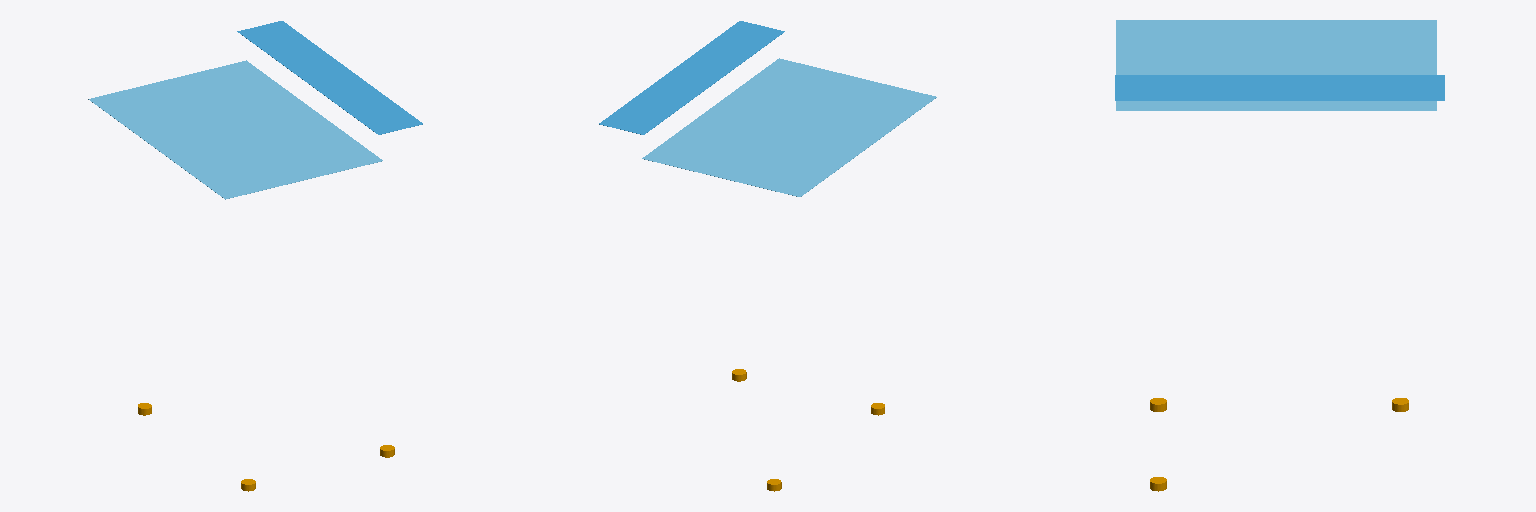
URDF robot description (partnet_3ac64751-e075-488d-9938-9123dc88b2b6-0):
<?xml version="1.0" ?>
<robot name="partnet_3ac64751-e075-488d-9938-9123dc88b2b6-0">
	<link name="base"/>

	<joint name="faucet_transform" type="fixed">
	    <parent link="basin"/>
	    <child link="faucet_platform"/>
	    <origin rpy="0 0 0" xyz="-0.014 -0.1 -0.3"/>
  	</joint>

	<link name="faucet_platform">
		<visual name="platform">
			<geometry>
		    	<box size="1.3 .001 .24"/>
		  	</geometry>
		</visual>
	</link>

	<joint name="bottom_transform" type="fixed">
		<parent link="basin"/>
		<child link="basin_bottom"/>
		<origin rpy="0 0 0" xyz="0 -0.24 0.21"/>
	</joint>
	<link name="basin_bottom">
		<origin rpy="0 0 0" xyz="0 -0.4 0.21"/>
		<visual name="water">
			<geometry>
      	<box size="1.26 .001 .84"/>
      </geometry>
			<material name="Blue">
				<color rgba="0.537254902 0.811764706 0.941176471 1.0"/>
			</material>
		</visual>
		<collision name="water_col">
			<geometry>
	        	<box size="1.26 .001 .84"/>
	        </geometry>
		</collision>
	</link>

	<link name="link_collision_1">
		<visual>
			<origin xyz="0 0 0"/>
			<geometry>
				<mesh filename="textured_objs/basin-minus-y.obj"/>
			</geometry>
		</visual>
		<collision>
			<origin xyz="0 0 0"/>
			<geometry>
				<mesh filename="textured_objs/basin-minus-y.obj"/>
			</geometry>
		</collision>
	</link>
	<joint name="joint_collision_1" type="fixed">
		<origin rpy="0 0 0" xyz="0 0 0"/>
		<child link="link_collision_1"/>
		<parent link="basin"/>
	</joint>

	<link name="link_collision_2">
		<visual>
			<origin xyz="0 0 0"/>
			<geometry>
				<mesh filename="textured_objs/basin-minus-x.obj"/>
			</geometry>
		</visual>
		<collision>
			<origin xyz="0 0 0"/>
			<geometry>
				<mesh filename="textured_objs/basin-minus-x.obj"/>
			</geometry>
		</collision>
	</link>
	<joint name="joint_collision_2" type="fixed">
		<origin rpy="0 0 0" xyz="0 0 0"/>
		<child link="link_collision_2"/>
		<parent link="basin"/>
	</joint>

	<link name="link_collision_3">
		<visual>
			<origin xyz="0 0 0"/>
			<geometry>
				<mesh filename="textured_objs/basin-plus-y.obj"/>
			</geometry>
		</visual>
		<collision>
			<origin xyz="0 0 0"/>
			<geometry>
				<mesh filename="textured_objs/basin-plus-y.obj"/>
			</geometry>
		</collision>
	</link>
	<joint name="joint_collision_3" type="fixed">
		<origin rpy="0 0 0" xyz="0 0 0"/>
		<child link="link_collision_3"/>
		<parent link="basin"/>
	</joint>

	<link name="link_collision_4">
		<visual>
			<origin xyz="0 0 0"/>
			<geometry>
				<mesh filename="textured_objs/basin-plus-x.obj"/>
			</geometry>
		</visual>
		<collision>
			<origin xyz="0 0 0"/>
			<geometry>
				<mesh filename="textured_objs/basin-plus-x.obj"/>
			</geometry>
		</collision>
	</link>
	<joint name="joint_collision_4" type="fixed">
		<origin rpy="0 0 0" xyz="0 0 0"/>
		<child link="link_collision_4"/>
		<parent link="basin"/>
	</joint>

	<link name="basin">
		<visual name="base_body-2">
			<origin xyz="0 0 0"/>
			<geometry>
				<mesh filename="textured_objs/original-64.obj"/>
			</geometry>
		</visual>
		<visual name="base_body-2--1">
			<origin xyz="0 0 0"/>
			<geometry>
				<mesh filename="textured_objs/original-65.obj"/>
			</geometry>
		</visual>
		<visual name="base_body-2--2">
			<origin xyz="0 0 0"/>
			<geometry>
				<mesh filename="textured_objs/original-54.obj"/>
			</geometry>
		</visual>
		<!-- <visual name="base_body-2-3">
			<origin xyz="0 0 0"/>
			<geometry>
				<mesh filename="textured_objs/original-63.obj"/>
			</geometry>
		</visual> -->
		<visual name="base_body-2--4">
			<origin xyz="0 0 0"/>
			<geometry>
				<mesh filename="textured_objs/original-55.obj"/>
			</geometry>
		</visual>
		<visual name="base_body-2--5">
			<origin xyz="0 0 0"/>
			<geometry>
				<mesh filename="textured_objs/original-48.obj"/>
			</geometry>
		</visual>
		<visual name="base_body-2--7">
			<origin xyz="0 0 0"/>
			<geometry>
				<mesh filename="textured_objs/original-47.obj"/>
			</geometry>
		</visual>
		<!-- <visual name="base_body-2-8">
			<origin xyz="0 0 0"/>
			<geometry>
				<mesh filename="textured_objs/original-53.obj"/>
			</geometry>
		</visual>
		<visual name="base_body-2-9">
			<origin xyz="0 0 0"/>
			<geometry>
				<mesh filename="textured_objs/original-46.obj"/>
			</geometry>
		</visual> -->

		<visual name="base_body-2-10">
			<origin xyz="0 0 0"/>
			<geometry>
				<mesh filename="textured_objs/original-57-new.obj"/>
			</geometry>
		</visual>

		<!-- <collision>
			<origin xyz="0 0 0"/>
			<geometry>
				<mesh filename="textured_objs/original-64.obj"/>
			</geometry>
		</collision>
		<collision>
			<origin xyz="0 0 0"/>
			<geometry>
				<mesh filename="textured_objs/original-65.obj"/>
			</geometry>
		</collision>
		<collision>
			<origin xyz="0 0 0"/>
			<geometry>
				<mesh filename="textured_objs/original-54.obj"/>
			</geometry>
		</collision>
		<collision>
			<origin xyz="0 0 0"/>
			<geometry>
				<mesh filename="textured_objs/original-55.obj"/>
			</geometry>
		</collision>
		<collision>
			<origin xyz="0 0 0"/>
			<geometry>
				<mesh filename="textured_objs/original-48.obj"/>
			</geometry>
		</collision>
		<collision>
			<origin xyz="0 0 0"/>
			<geometry>
				<mesh filename="textured_objs/original-47.obj"/>
			</geometry>
		</collision>
		<collision>
			<origin xyz="0 0 0"/>
			<geometry>
				<mesh filename="textured_objs/original-57-new.obj"/>
			</geometry>
		</collision> -->
	</link>
	<joint name="joint_2" type="fixed">
		<origin rpy="0 0 0" xyz="0 1.03 -0.14"/>
		<child link="basin"/>
		<parent link="basin_base"/>
	</joint>
	<link name="basin_base">
		<visual name="base_body-22">
			<origin xyz="0 0 0"/>
			<geometry>
				<mesh filename="base_objs/original-21.obj"/>
			</geometry>
		</visual>
		<visual name="base_body-22--1">
			<origin xyz="0 0 0"/>
			<geometry>
				<mesh filename="base_objs/original-22.obj"/>
			</geometry>
		</visual>
		<visual name="base_body-22--2">
			<origin xyz="0 0 0"/>
			<geometry>
				<mesh filename="base_objs/original-3.obj"/>
			</geometry>
		</visual>
		<visual name="base_body-22--3">
			<origin xyz="0 0 0"/>
			<geometry>
				<mesh filename="base_objs/original-16.obj"/>
			</geometry>
		</visual>
		<visual name="base_body-22--4">
			<origin xyz="0 0 0"/>
			<geometry>
				<mesh filename="base_objs/original-9.obj"/>
			</geometry>
		</visual>
		<visual name="base_body-22--5">
			<origin xyz="0 0 0"/>
			<geometry>
				<mesh filename="base_objs/original-5.obj"/>
			</geometry>
		</visual>
		<visual name="base_body-22--6">
			<origin xyz="0 0 0"/>
			<geometry>
				<mesh filename="base_objs/original-27.obj"/>
			</geometry>
		</visual>
		<visual name="base_body-22--7">
			<origin xyz="0 0 0"/>
			<geometry>
				<mesh filename="base_objs/original-6.obj"/>
			</geometry>
		</visual>
		<visual name="base_body-22--8">
			<origin xyz="0 0 0"/>
			<geometry>
				<mesh filename="base_objs/original-23.obj"/>
			</geometry>
		</visual>
		<visual name="base_body-22--9">
			<origin xyz="0 0 0"/>
			<geometry>
				<mesh filename="base_objs/original-11.obj"/>
			</geometry>
		</visual>
		<visual name="base_body-22--10">
			<origin xyz="0 0 0"/>
			<geometry>
				<mesh filename="base_objs/original-18.obj"/>
			</geometry>
		</visual>
		<visual name="base_body-22--11">
			<origin xyz="0 0 0"/>
			<geometry>
				<mesh filename="base_objs/original-17.obj"/>
			</geometry>
		</visual>
		<visual name="base_body-22--12">
			<origin xyz="0 0 0"/>
			<geometry>
				<mesh filename="base_objs/original-12.obj"/>
			</geometry>
		</visual>
		<visual name="base_body-22--13">
			<origin xyz="0 0 0"/>
			<geometry>
				<mesh filename="base_objs/original-20.obj"/>
			</geometry>
		</visual>
		<visual name="base_body-22--14">
			<origin xyz="0 0 0"/>
			<geometry>
				<mesh filename="base_objs/original-7.obj"/>
			</geometry>
		</visual>
		<visual name="base_body-22--15">
			<origin xyz="0 0 0"/>
			<geometry>
				<mesh filename="base_objs/original-10.obj"/>
			</geometry>
		</visual>
		<visual name="base_body-22--16">
			<origin xyz="0 0 0"/>
			<geometry>
				<mesh filename="base_objs/original-14.obj"/>
			</geometry>
		</visual>
		<collision>
			<origin xyz="0 0 0"/>
			<geometry>
				<mesh filename="base_objs/original-21.obj"/>
			</geometry>
		</collision>
		<collision>
			<origin xyz="0 0 0"/>
			<geometry>
				<mesh filename="base_objs/original-22.obj"/>
			</geometry>
		</collision>
		<collision>
			<origin xyz="0 0 0"/>
			<geometry>
				<mesh filename="base_objs/original-3.obj"/>
			</geometry>
		</collision>
		<collision>
			<origin xyz="0 0 0"/>
			<geometry>
				<mesh filename="base_objs/original-16.obj"/>
			</geometry>
		</collision>
		<collision>
			<origin xyz="0 0 0"/>
			<geometry>
				<mesh filename="base_objs/original-9.obj"/>
			</geometry>
		</collision>
		<collision>
			<origin xyz="0 0 0"/>
			<geometry>
				<mesh filename="base_objs/original-5.obj"/>
			</geometry>
		</collision>
		<collision>
			<origin xyz="0 0 0"/>
			<geometry>
				<mesh filename="base_objs/original-27.obj"/>
			</geometry>
		</collision>
		<collision>
			<origin xyz="0 0 0"/>
			<geometry>
				<mesh filename="base_objs/original-6.obj"/>
			</geometry>
		</collision>
		<collision>
			<origin xyz="0 0 0"/>
			<geometry>
				<mesh filename="base_objs/original-23.obj"/>
			</geometry>
		</collision>
		<collision>
			<origin xyz="0 0 0"/>
			<geometry>
				<mesh filename="base_objs/original-11.obj"/>
			</geometry>
		</collision>
		<collision>
			<origin xyz="0 0 0"/>
			<geometry>
				<mesh filename="base_objs/original-18.obj"/>
			</geometry>
		</collision>
		<collision>
			<origin xyz="0 0 0"/>
			<geometry>
				<mesh filename="base_objs/original-17.obj"/>
			</geometry>
		</collision>
		<collision>
			<origin xyz="0 0 0"/>
			<geometry>
				<mesh filename="base_objs/original-12.obj"/>
			</geometry>
		</collision>
		<collision>
			<origin xyz="0 0 0"/>
			<geometry>
				<mesh filename="base_objs/original-20.obj"/>
			</geometry>
		</collision>
		<collision>
			<origin xyz="0 0 0"/>
			<geometry>
				<mesh filename="base_objs/original-7.obj"/>
			</geometry>
		</collision>
		<collision>
			<origin xyz="0 0 0"/>
			<geometry>
				<mesh filename="base_objs/original-10.obj"/>
			</geometry>
		</collision>
		<collision>
			<origin xyz="0 0 0"/>
			<geometry>
				<mesh filename="base_objs/original-14.obj"/>
			</geometry>
		</collision>
	</link>
	<joint name="joint_1" type="fixed">
		<origin rpy="1.570796326794897 0 -1.570796326794897" xyz="0 0 0"/>
		<child link="basin_base"/>
		<parent link="base"/>
	</joint>
</robot>

--- What the picture shows (computed from the rendered views, not written in the file) ---
The picture shows the robot from 3 angles, left to right: view 1: azimuth 30°, elevation 25°; view 2: azimuth 150°, elevation 25°; view 3: azimuth 270°, elevation 25°; orthographic projection.
Model partnet_3ac64751-e075-488d-9938-9123dc88b2b6-0 with 9 links and 8 joints (8 fixed), rooted at base, posed all joints at 0.
Links seen in each view (by area): view 1: basin_bottom, faucet_platform; view 2: basin_bottom, faucet_platform; view 3: basin_bottom, faucet_platform, basin_base.
Boxes of the visible links, x1,y1,x2,y2 form: basin_bottom: [88, 60, 382, 199]; faucet_platform: [237, 21, 422, 134]; basin_bottom: [642, 58, 936, 196]; faucet_platform: [599, 21, 784, 134]; basin_bottom: [1116, 20, 1436, 110]; faucet_platform: [1115, 75, 1444, 100]; basin_base: [1150, 398, 1408, 491].
Size in the robot's own frame: 1.05 by 1.3 by 1.72 metres.
3 mesh visuals loaded from 28 distinct referenced files (3 OBJ); not drawn: 25 (reference not matched to a file when rendering).